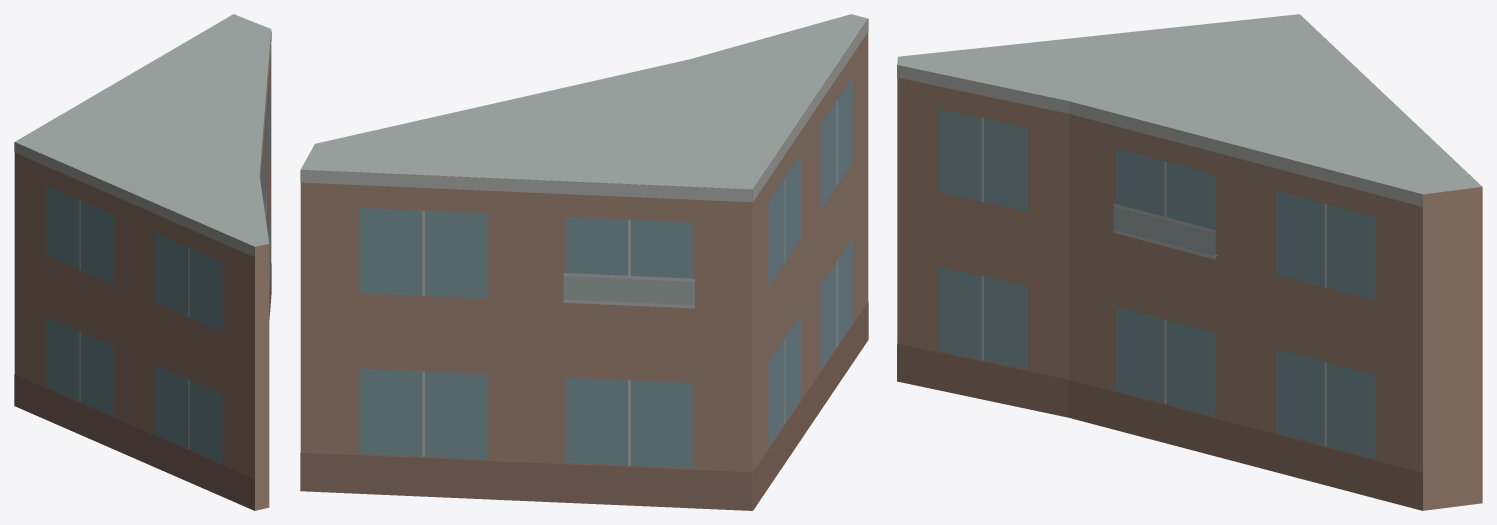
The model's file is survey-upis-32459889.glb.
3 renders of one model, left to right at view 1: azimuth 30°, elevation 25°; view 2: azimuth 150°, elevation 25°; view 3: azimuth 270°, elevation 25°, orthographic. The views are drawn at different scales.
Visible parts, largest first — view 1: survey-upis-32459889.tmp; view 2: survey-upis-32459889.tmp; view 3: survey-upis-32459889.tmp.
Part boxes in pixels (box(x1,y1,x2,y2)): survey-upis-32459889.tmp: box(14, 14, 271, 510); survey-upis-32459889.tmp: box(300, 14, 868, 510); survey-upis-32459889.tmp: box(897, 14, 1482, 510).
Bounding box in the file's own units: 7.46 × 6.1 × 10.24.
